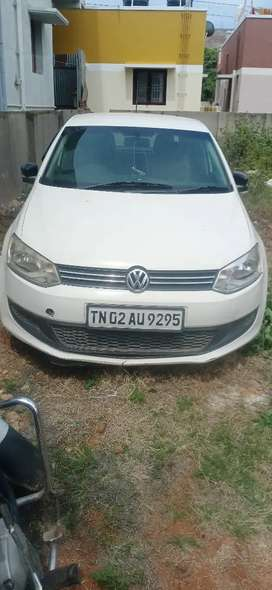TN02AU9295: (88, 306, 184, 330)
